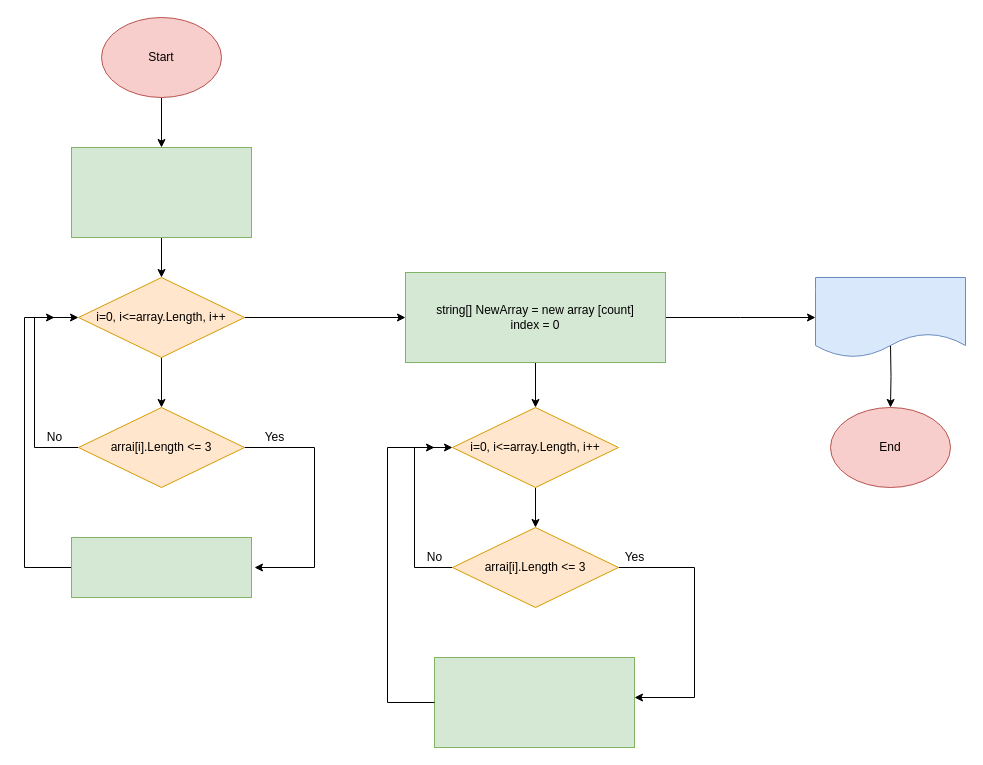
Some shapes in this 983 by 765 pixel diagram are drawn without their labels. Here are the shapes that lost their labels. From the top down, the centre of each, then its label:
At point (161, 192): "size string [] array count = 0".
At point (890, 317): "array NewArray".
At point (161, 567): "count = count + 1".
At point (534, 702): "NewArray[index] = array[i] index = index + 1".
